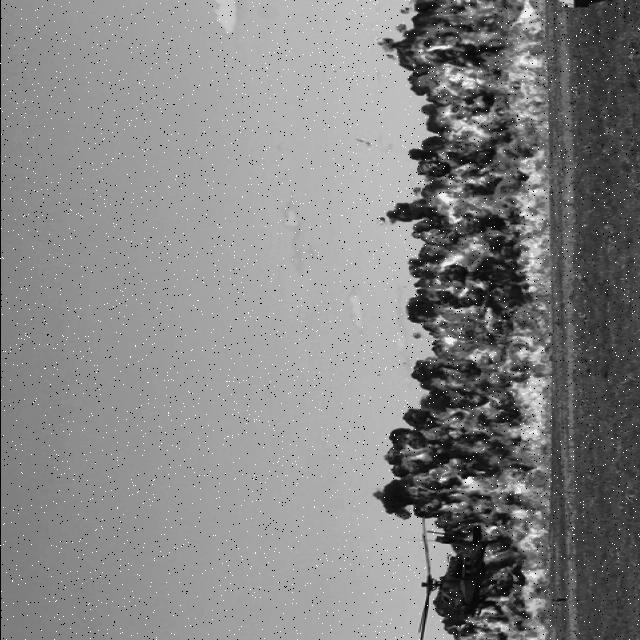api: (368, 1, 551, 640)
